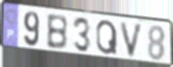3: (72, 16, 93, 54)
8: (146, 24, 167, 63)
9: (22, 10, 42, 48)
B: (45, 14, 69, 52)
Q: (95, 19, 119, 56)
V: (119, 21, 145, 59)
